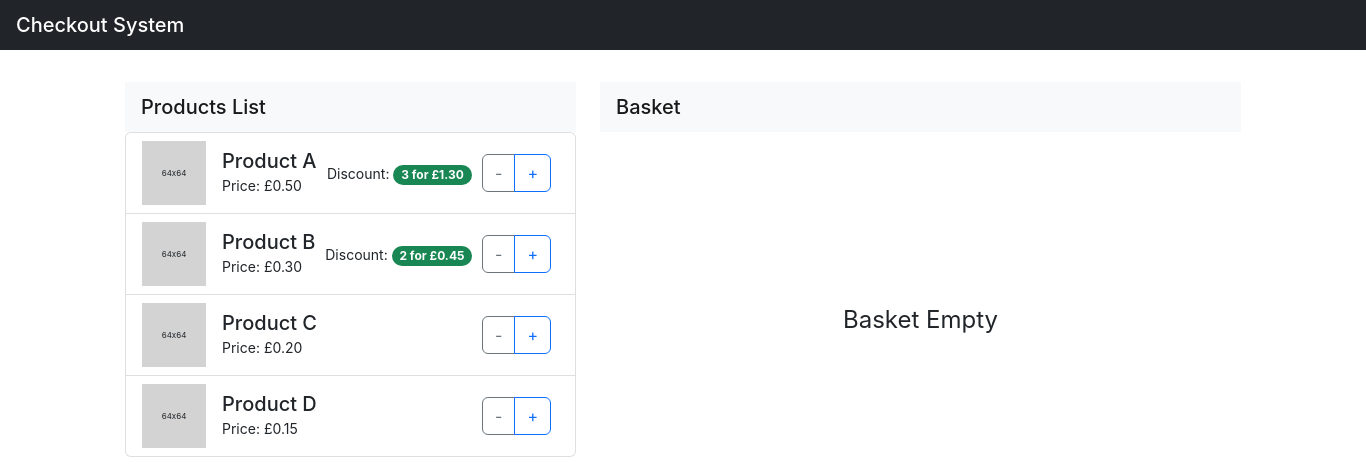
Test: Verify Product Quantity in Basket
Step 1. Click the button with class "btn-outline-primary" in the row of "£0.30" → (533, 254), box x1=514 y1=235 x2=551 y2=273
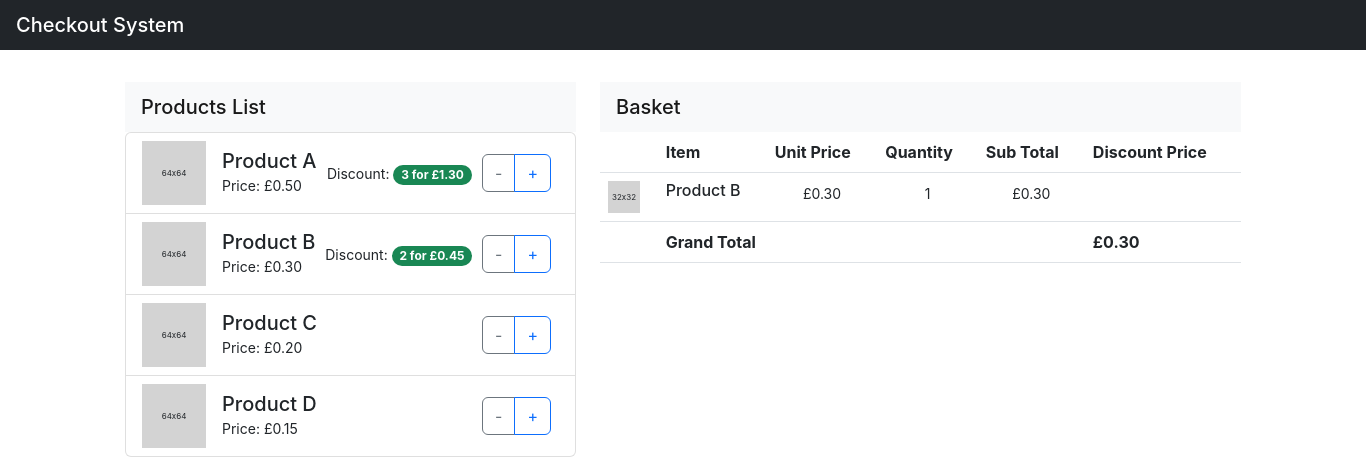
Step 2. Click the button with class "btn-outline-primary" next to "£0.45" → (533, 254), box x1=514 y1=235 x2=551 y2=273
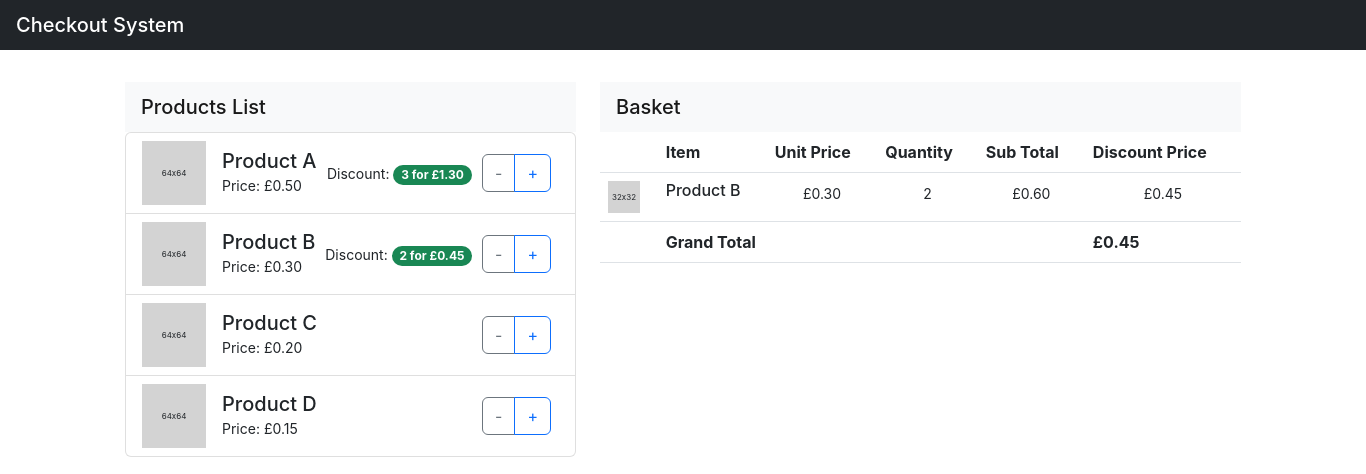
Expected: the cell "2" is shown, x1=877 y1=172 x2=978 y2=222
